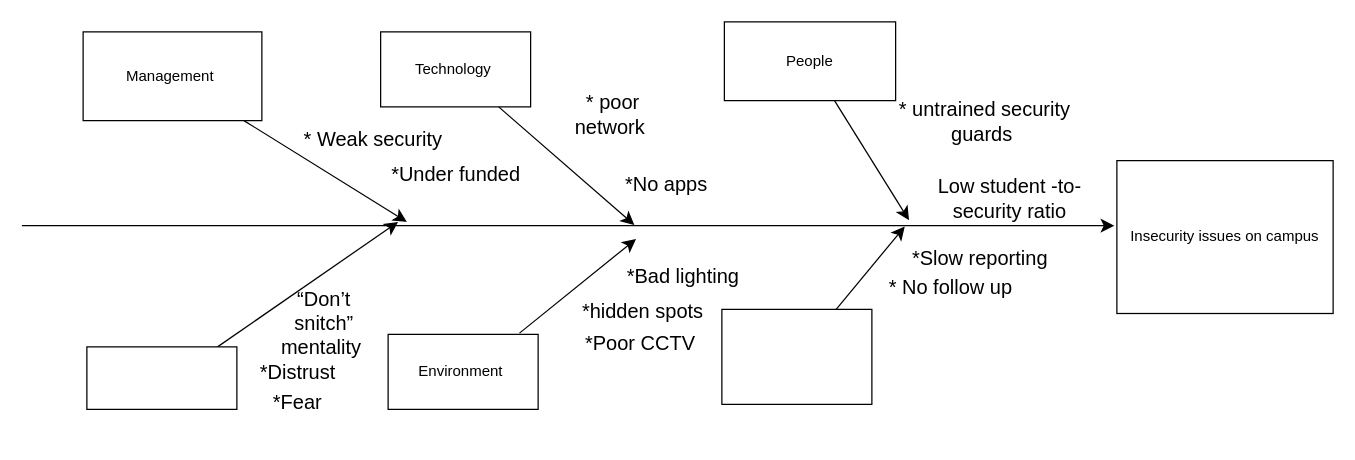
Image size: 1355x460. Some labels were removed from this diagram. The box of each missing label's shape, as (x1, y1, x2, y2) in pixels:
Culture: (86, 346, 237, 409)
Process: (721, 308, 872, 404)
